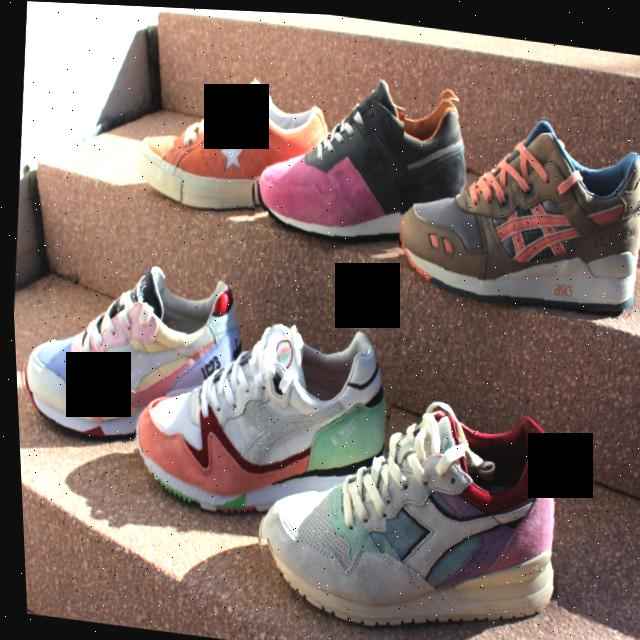shoe: (232, 368, 570, 640), (115, 284, 400, 550), (387, 87, 640, 321), (8, 237, 256, 467), (237, 56, 488, 265), (120, 47, 339, 233)
